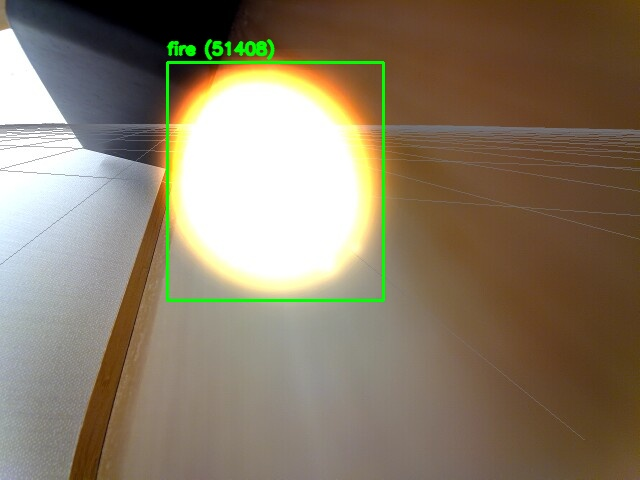fire: (167, 62, 383, 300)
